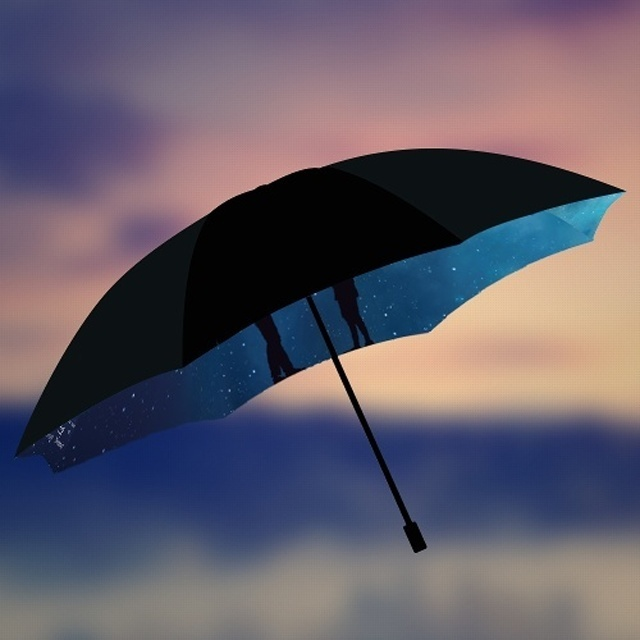umbrella: (16, 142, 629, 559)
